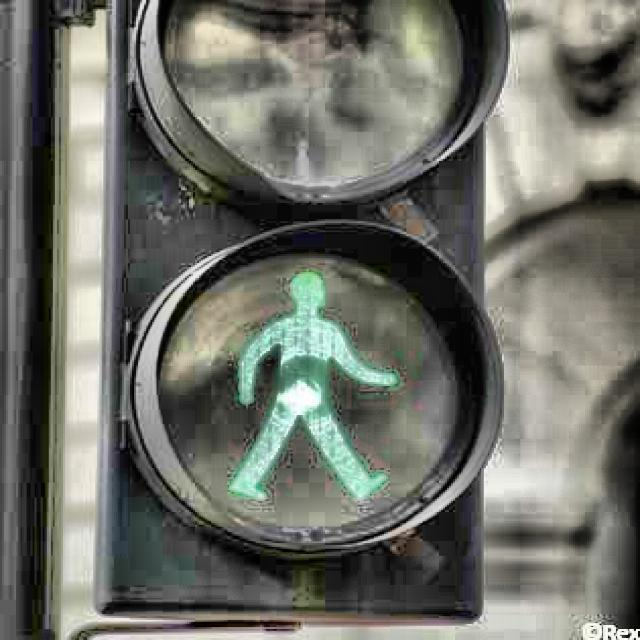green_light: (224, 268, 400, 507)
